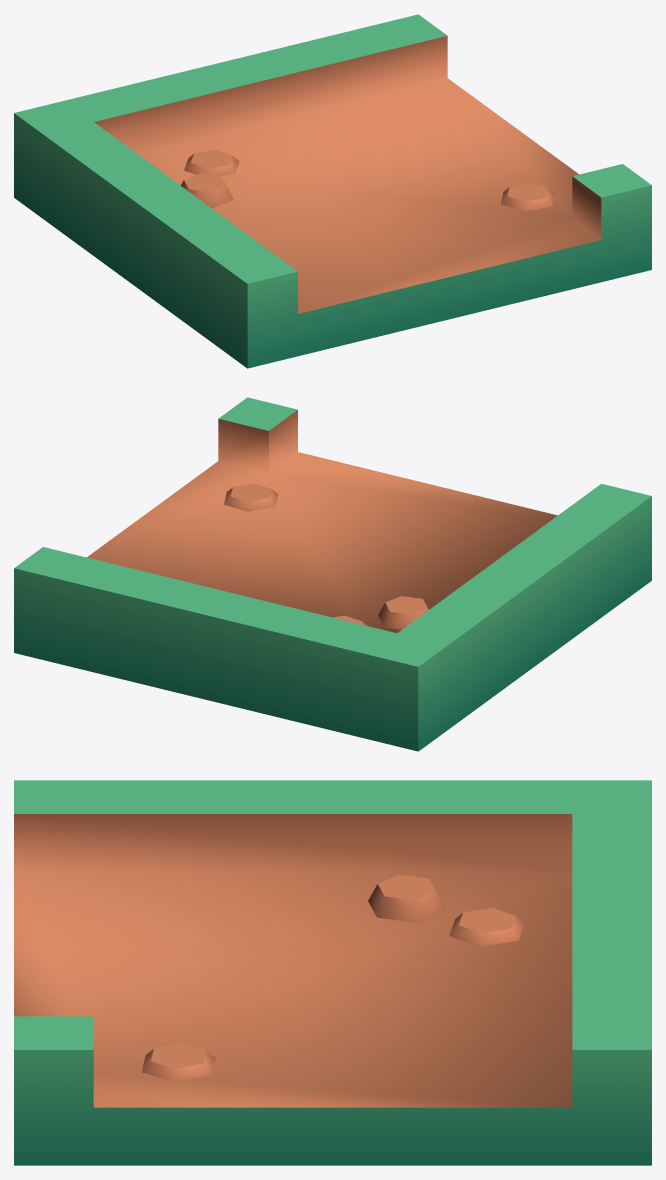
The model's file is tile-corner-square.glb.
3 views of the same model, one above another, from view 1: azimuth 30°, elevation 25°; view 2: azimuth 150°, elevation 25°; view 3: azimuth 270°, elevation 25° (orthographic). The views are drawn at different scales.
Parts seen in each view (by area): view 1: tile-corner-square; view 2: tile-corner-square; view 3: tile-corner-square.
Part boxes in pixels (left/top/right/bottom): tile-corner-square: left=14, top=14, right=651, bottom=368; tile-corner-square: left=14, top=397, right=651, bottom=751; tile-corner-square: left=14, top=780, right=651, bottom=1165.
Size of the model in its own units: 1 by 0.2 by 1.
1 material, 1 textured.
